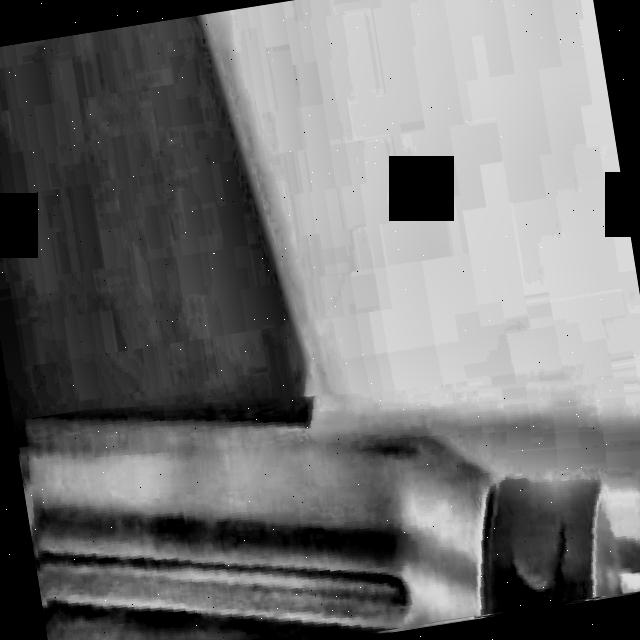bottle: (24, 417, 640, 640)
